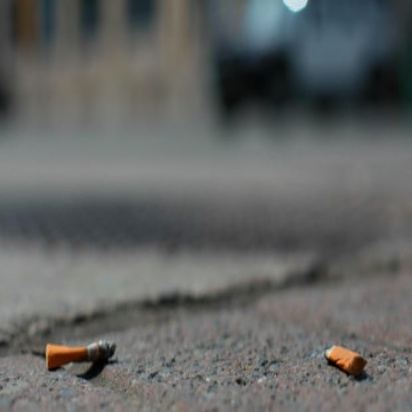cigarette: (38, 337, 122, 373), (319, 341, 374, 380)
